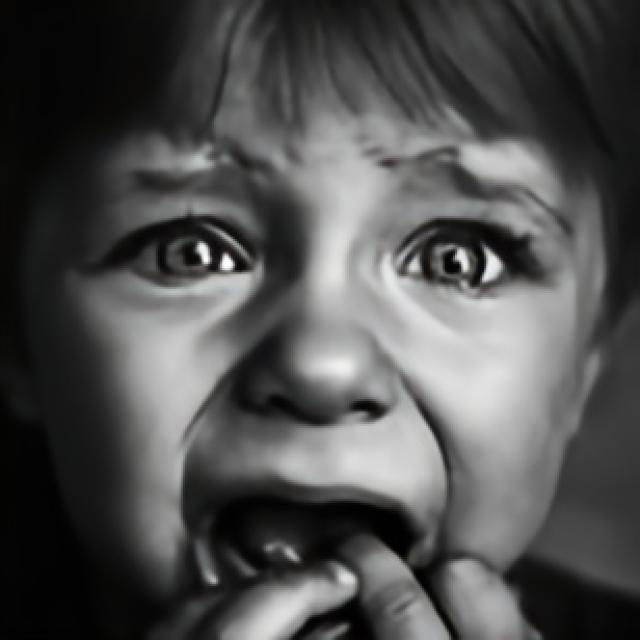fear: (19, 0, 611, 640)
